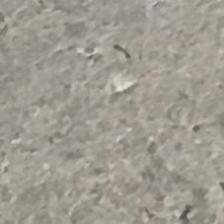Non_Crack: (15, 38, 224, 210)
